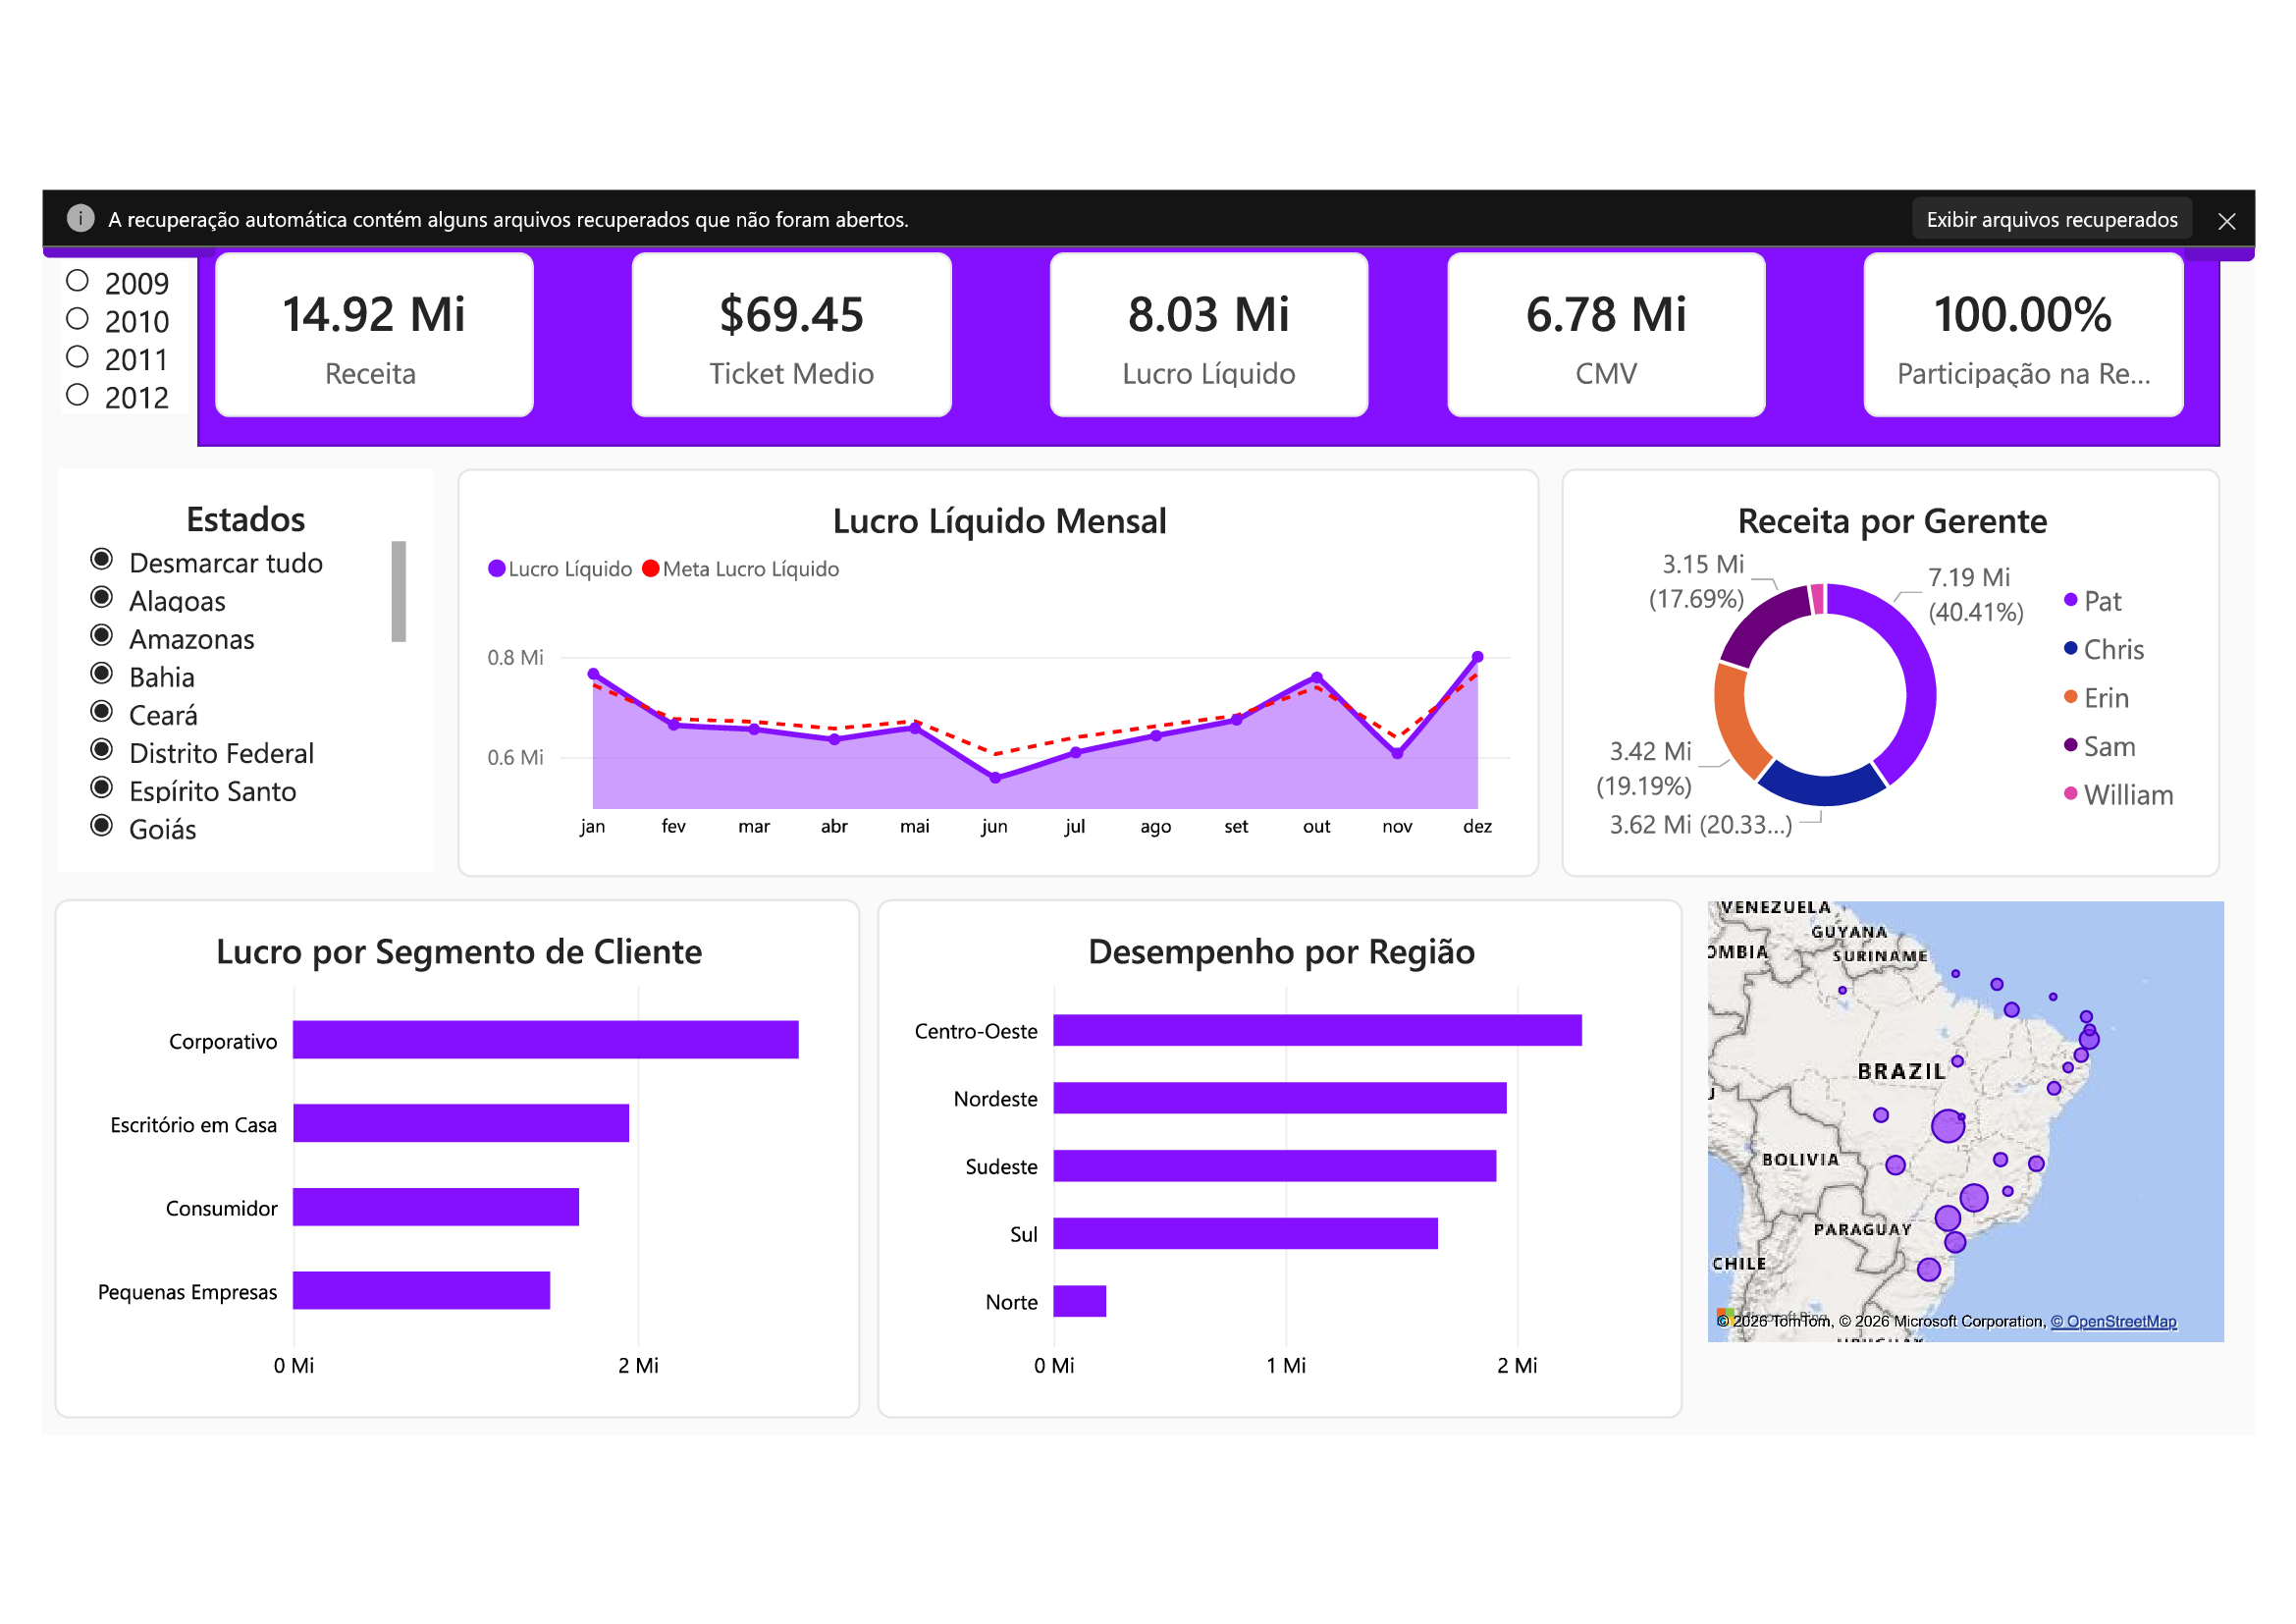

What the dashboard file says about the page in this screenshot:
{"tool":"powerbi","page":{"name":"Sales","canvas":[1280,720],"ordinal":0},"visuals":[{"type":"shape","box":[90,14,1170,134],"z":0},{"type":"actionButton","box":[0,0,99.8,39.2],"z":1000},{"type":"map","fields":{"Category":["Vendas.Estado"],"Size":["Sum(Vendas.Lucro)"]},"box":[948.3,396.7,330,323.3],"z":2000},{"type":"card","fields":{"Values":["Ranking.% Participação Receita"]},"box":[1054.3,35.7,184.3,95.7],"z":3000},{"type":"clusteredBarChart","title":"Desempenho por Região","fields":{"Category":["Vendas.Região"],"Y":["LUCROS.Lucro Líquido"]},"box":[482.9,410,465.7,300],"z":4000},{"type":"card","fields":{"Values":["CMV.CMV"]},"box":[812.9,35.7,184.3,95.7],"z":5000},{"type":"card","fields":{"Values":["LUCROS.Lucro Líquido"]},"box":[582.9,35.7,184.3,95.7],"z":6000},{"type":"card","fields":{"Values":["RECEITA.Receita Líquida"]},"box":[100,35.7,184.3,95.7],"z":7000},{"type":"lineChart","title":"Lucro Líquido Mensal","fields":{"Category":["dCalendario.Mês Abreviado"],"Y":["LUCROS.Lucro Líquido"],"Y2":["LUCROS.Meta Lucro Líquido"]},"box":[240,161.4,625.7,235.7],"z":8000},{"type":"actionButton","box":[1238.7,0,41,41],"z":9000},{"type":"listSlicer","fields":{"Values":["dCalendario.Ano"]},"box":[8.6,38.6,77.1,184.3],"z":10000},{"type":"clusteredBarChart","title":"Lucro por Segmento de Cliente","fields":{"Category":["Vendas.Segmento do Cliente"],"Y":["LUCROS.Lucro Líquido"]},"box":[7.1,410,465.7,300],"z":11000},{"type":"listSlicer","title":"Estados","fields":{"Values":["Vendas.Estado"]},"box":[8.6,161.4,217.1,232.9],"z":12000},{"type":"donutChart","title":"Receita por Gerente","fields":{"Category":["Gerentes.Gerente"],"Y":["Gerentes.Receita por Gerente"]},"box":[878.6,161.4,381.4,235.7],"z":13000},{"type":"card","fields":{"Values":["LUCROS.Ticket Medio"]},"box":[341.4,35.7,184.3,95.7],"z":14000}]}

Visuals, with their boxes on the page's 1280x720 design canvas (x1, y1, x2, y2). These are canvas units, not pixel positions in the 2296x1624 screenshot, which may show the page scaled, cropped or inside an application window:
shape: [90,14,1260,148]
actionButton: [0,0,100,39]
map - Vendas.Estado x Sum(Vendas.Lucro): [948,397,1278,720]
card - Ranking.% Participação Receita: [1054,36,1239,131]
"Desempenho por Região" clusteredBarChart: [483,410,949,710]
card - CMV.CMV: [813,36,997,131]
card - LUCROS.Lucro Líquido: [583,36,767,131]
card - RECEITA.Receita Líquida: [100,36,284,131]
"Lucro Líquido Mensal" lineChart: [240,161,866,397]
actionButton: [1239,0,1280,41]
listSlicer - dCalendario.Ano: [9,39,86,223]
"Lucro por Segmento de Cliente" clusteredBarChart: [7,410,473,710]
"Estados" listSlicer: [9,161,226,394]
"Receita por Gerente" donutChart: [879,161,1260,397]
card - LUCROS.Ticket Medio: [341,36,526,131]
